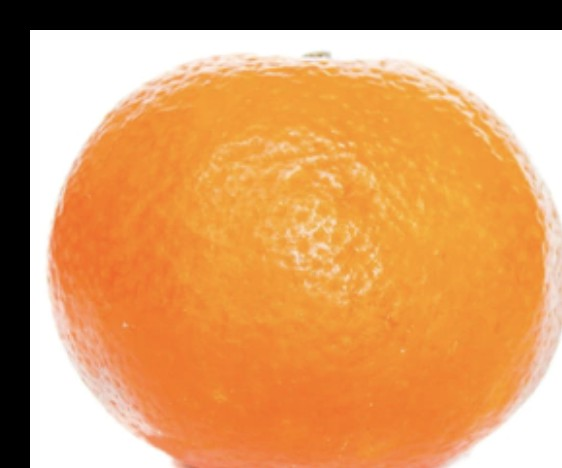fresh_orange: (48, 48, 562, 468)
